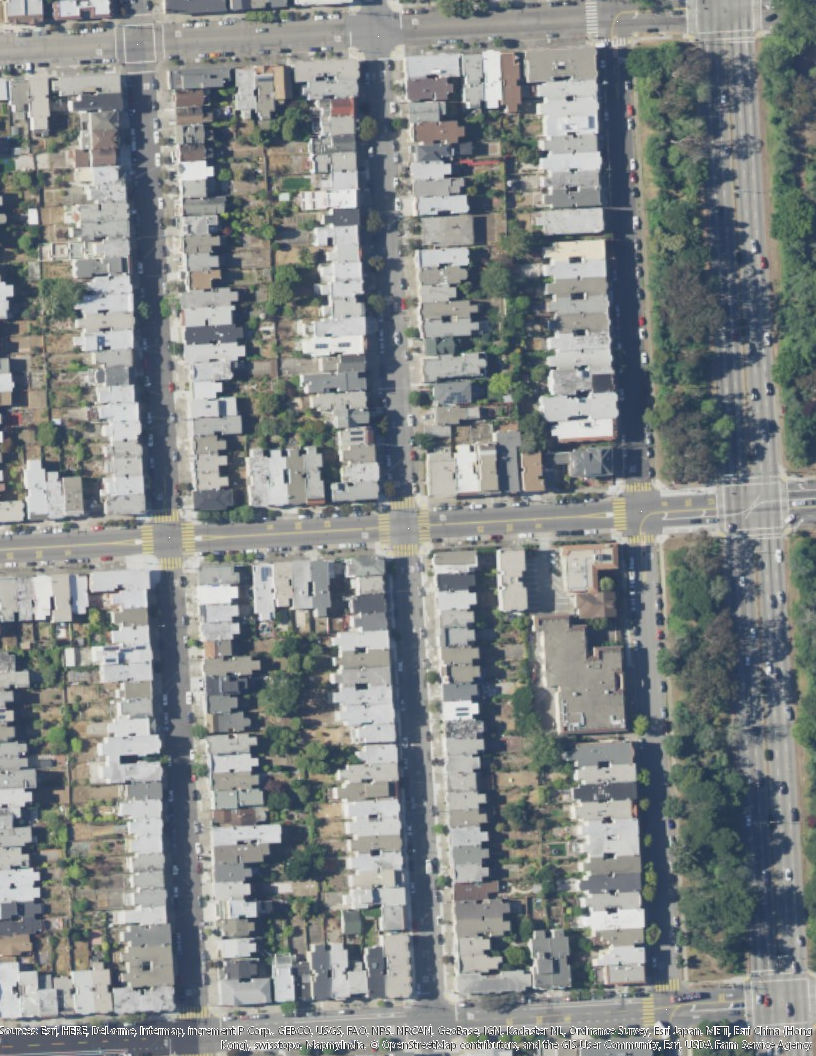zebracross: (139, 523, 156, 556), (613, 496, 627, 535), (584, 1, 598, 40), (628, 530, 659, 547), (180, 523, 196, 555), (176, 1005, 212, 1019), (416, 512, 431, 542), (626, 478, 656, 493), (154, 509, 182, 525), (378, 514, 392, 546), (391, 496, 415, 512), (392, 544, 421, 557), (652, 980, 681, 993), (642, 996, 654, 1025), (601, 36, 630, 47), (160, 556, 181, 570)
